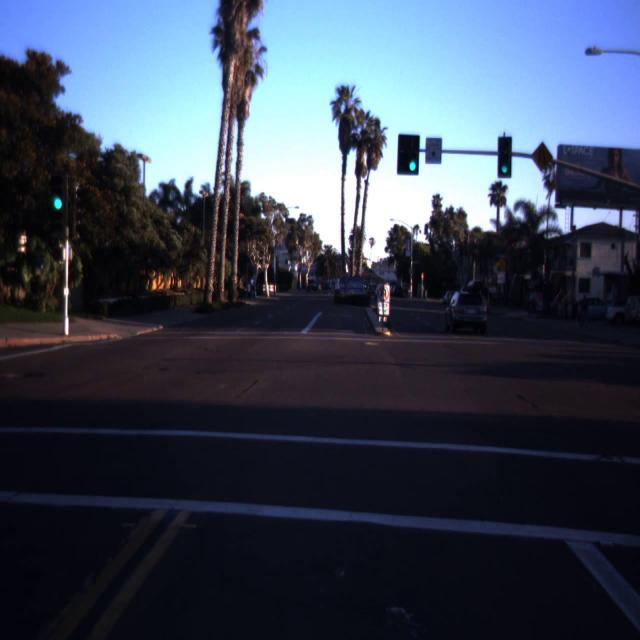yesil: (399, 135, 419, 175), (498, 137, 512, 178)
